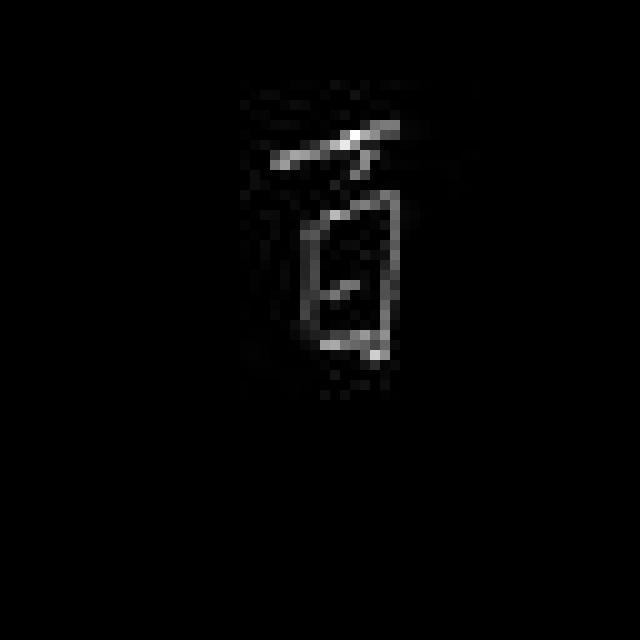100 -a hundred-: (257, 104, 416, 372)
